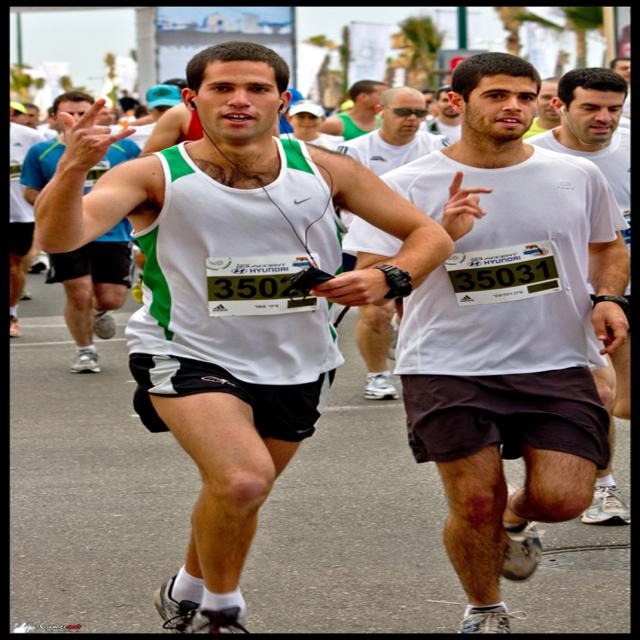Bib: (453, 261, 556, 293), (211, 275, 314, 302)
